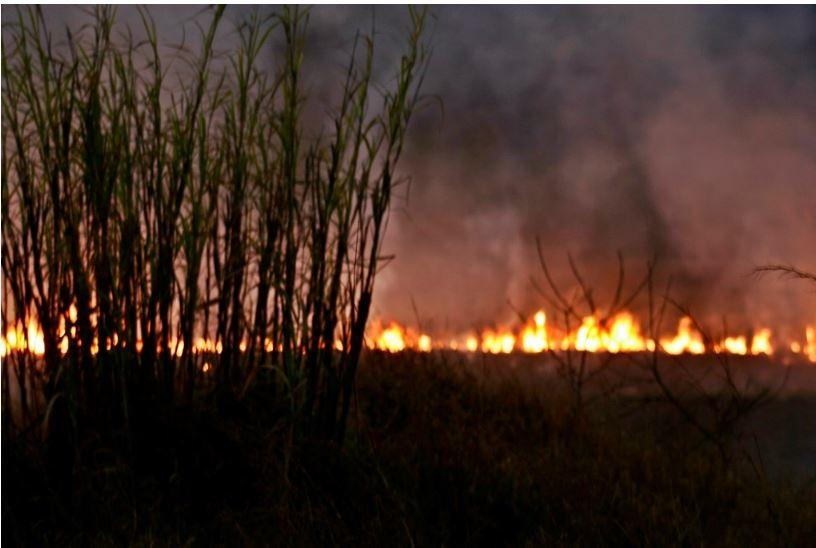fire: (370, 324, 783, 351)
smoke: (434, 24, 784, 251)
